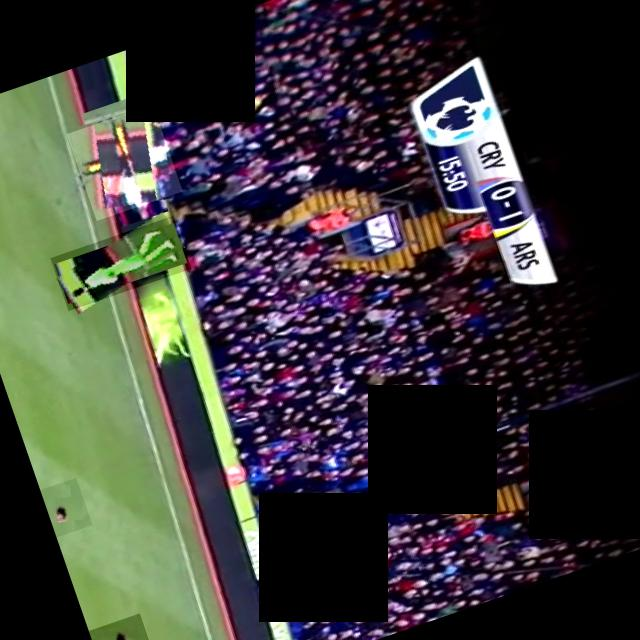goalkeeper: (50, 214, 190, 310)
referee: (66, 103, 182, 220)
soccer-player: (40, 476, 92, 536), (88, 612, 159, 640)
